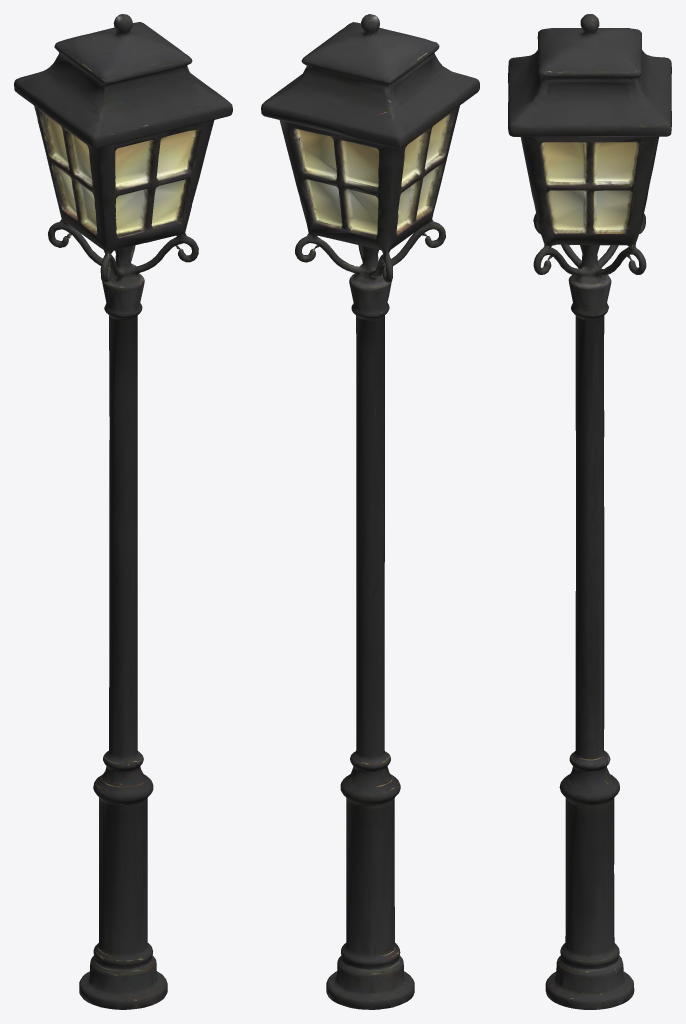
The model's file is decor_lamp.glb.
The picture shows the model from 3 angles, left to right: view 1: azimuth 30°, elevation 25°; view 2: azimuth 150°, elevation 25°; view 3: azimuth 270°, elevation 25°; orthographic projection.
Visible parts, largest first — view 1: Mesh_0; view 2: Mesh_0; view 3: Mesh_0.
Part boxes in pixels (bbox=[...]): Mesh_0: bbox=[14, 14, 232, 1009]; Mesh_0: bbox=[261, 14, 479, 1009]; Mesh_0: bbox=[508, 14, 671, 1009].
Size of the model in its own units: 0.2902 by 1.91 by 0.2904.
1 material, 1 textured.
